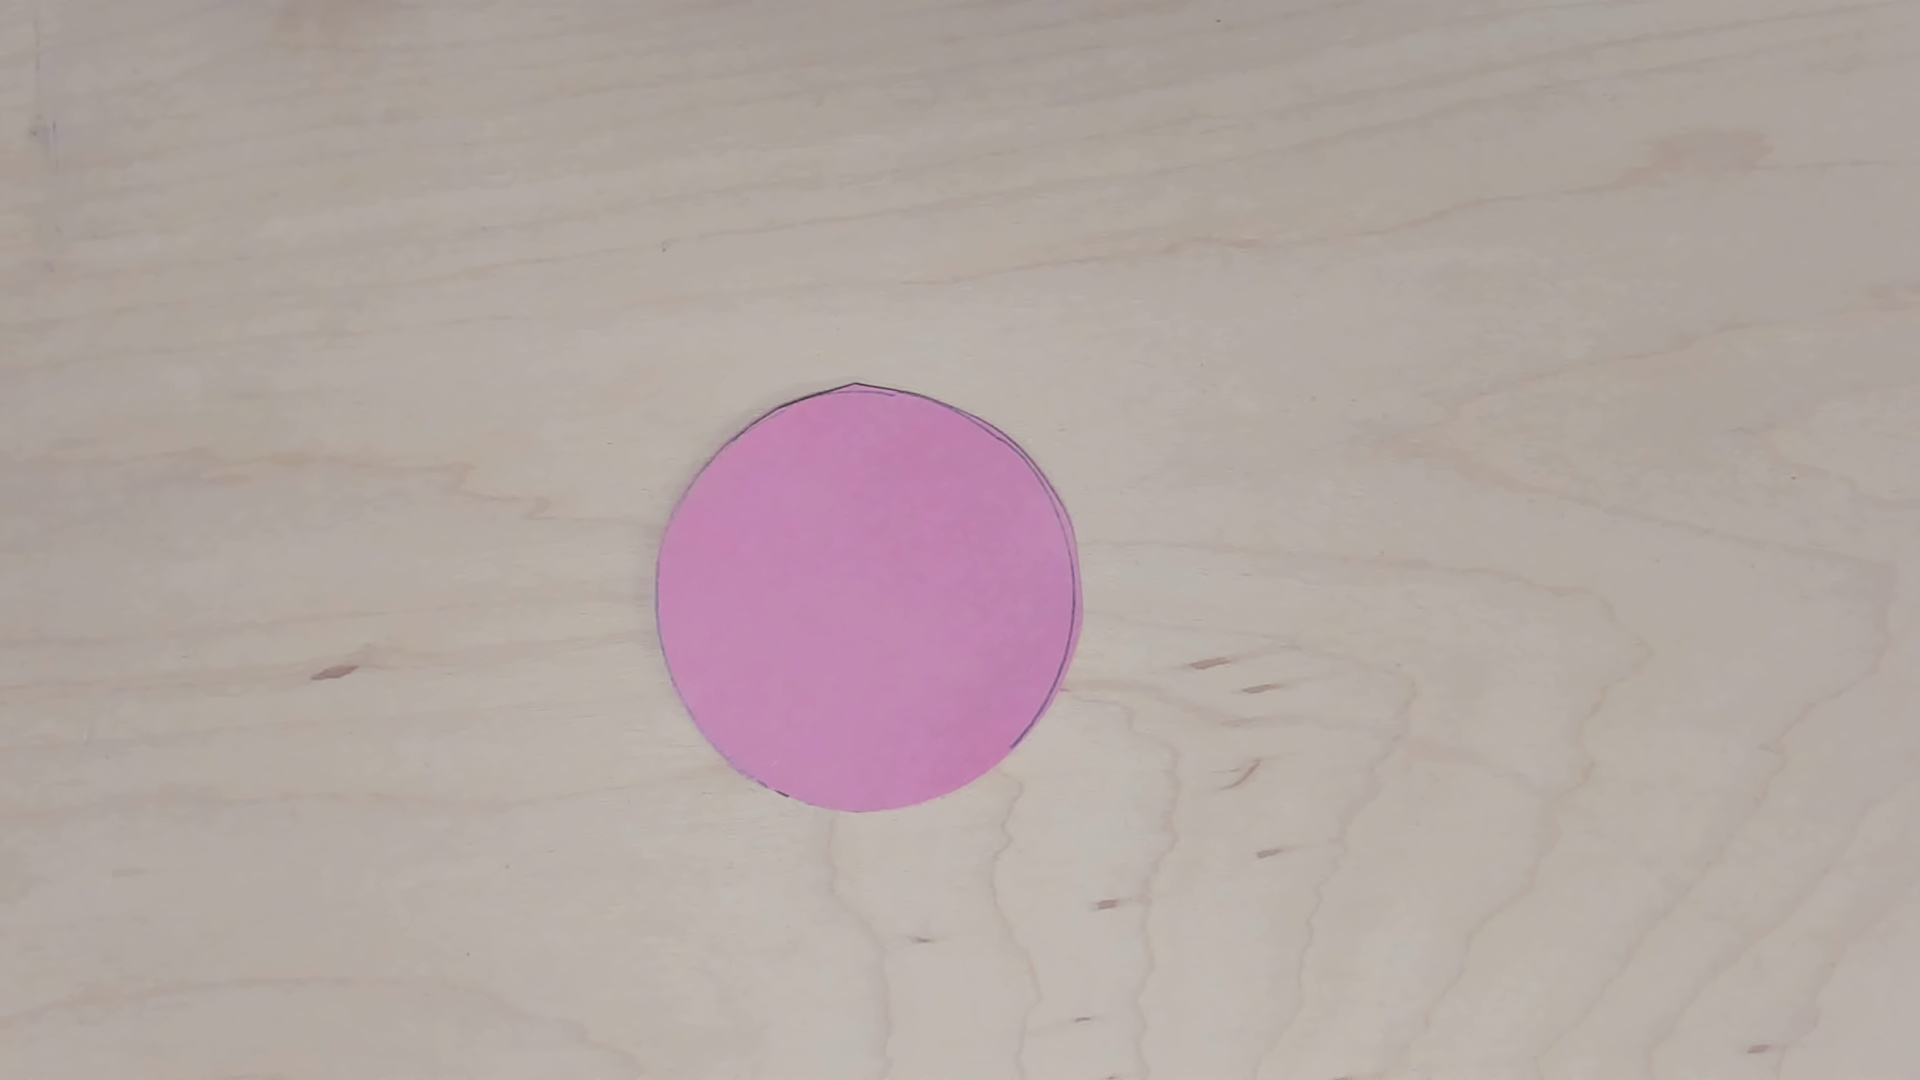PC: (653, 382, 1087, 815)
